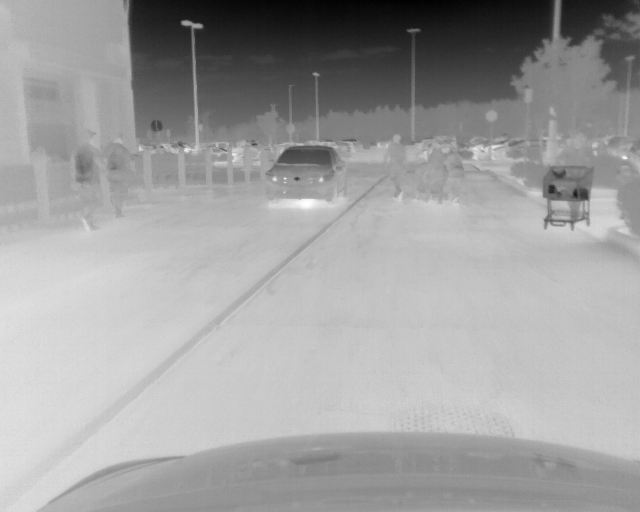car: (263, 145, 347, 203)
people: (69, 130, 102, 233), (558, 136, 591, 219), (105, 133, 135, 219), (383, 134, 407, 197), (422, 141, 444, 201), (614, 160, 635, 219), (445, 144, 460, 203)
